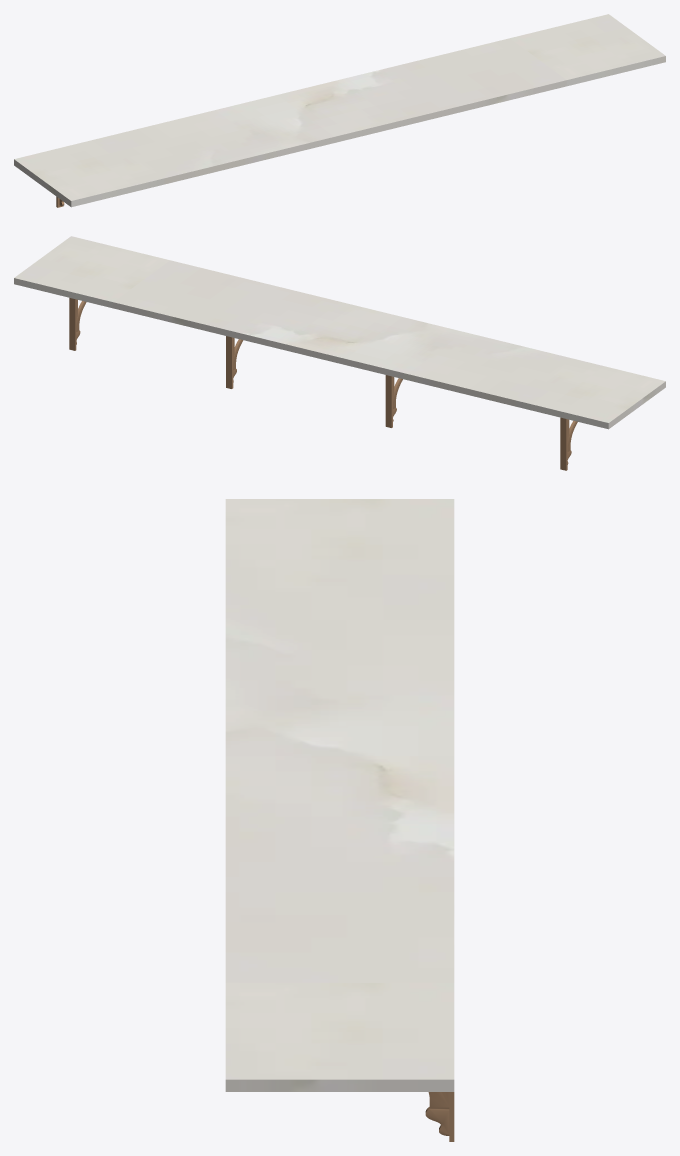
File: FLOATING SHELF 1200 MM.glb
The picture shows the model from 3 angles, top to bottom: view 1: azimuth 30°, elevation 25°; view 2: azimuth 150°, elevation 25°; view 3: azimuth 270°, elevation 25°; orthographic projection. The views are drawn at different scales.
Size of the model in its own units: 1.2 by 0.112 by 0.2.
2 materials, 1 textured.
